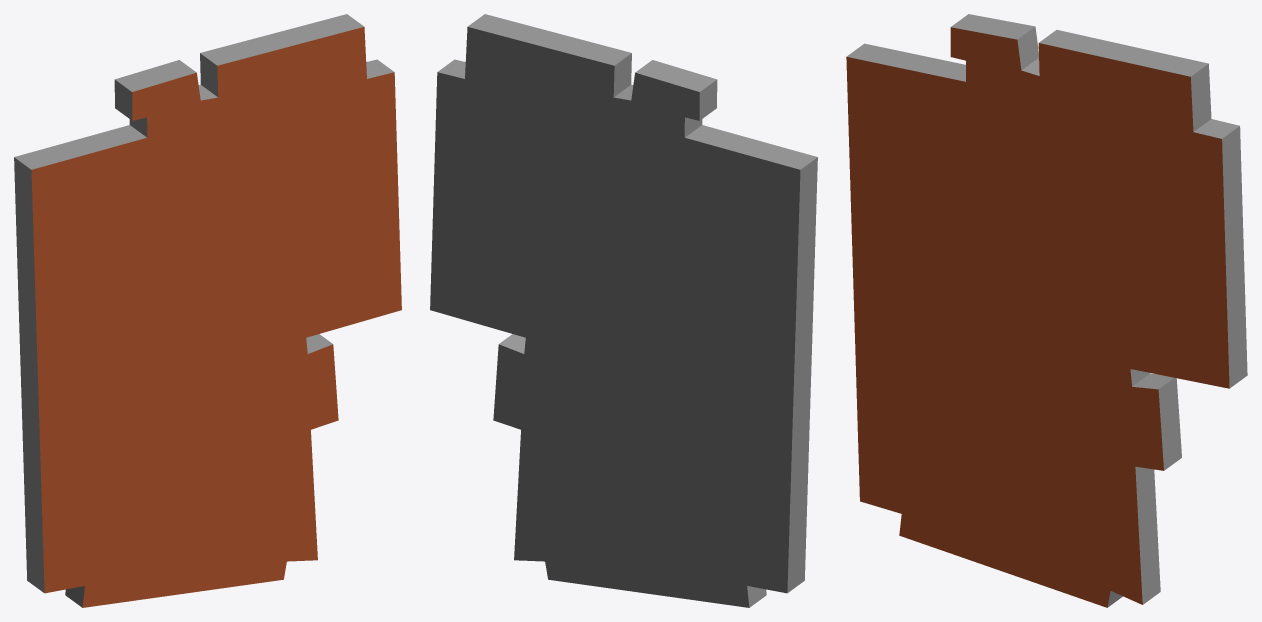
Rendered from construction_0120_assumed_A_Grande_construcao_h6m.obj.
3 renders of one model, left to right at view 1: azimuth 30°, elevation 25°; view 2: azimuth 150°, elevation 25°; view 3: azimuth 330°, elevation 25°, orthographic. The views are drawn at different scales.
Parts seen in each view (by area): view 1: construction_0120_assumed_A_Grande_construcao; view 2: construction_0120_assumed_A_Grande_construcao; view 3: construction_0120_assumed_A_Grande_construcao.
Boxes of the visible parts, x1,y1,x2,y2 form: construction_0120_assumed_A_Grande_construcao: (14, 14, 401, 607); construction_0120_assumed_A_Grande_construcao: (430, 14, 817, 607); construction_0120_assumed_A_Grande_construcao: (846, 14, 1247, 607).
Bounding box in the file's own units: 73.56 × 101 × 6.
